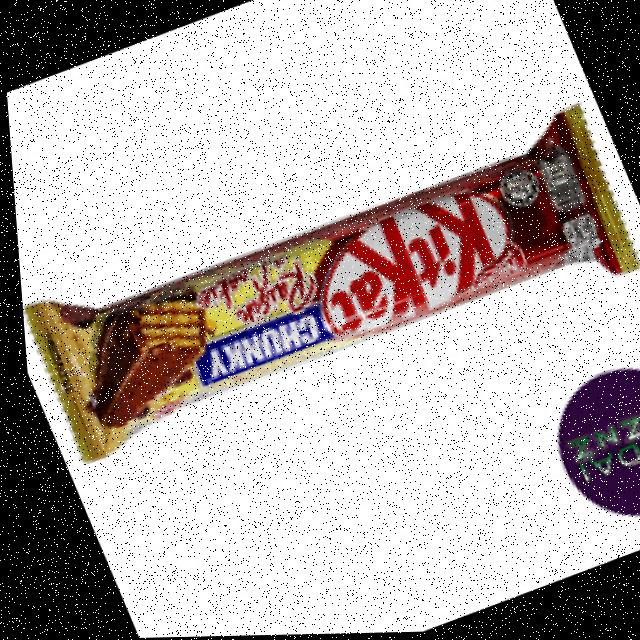kitkat: (6, 98, 640, 474)
